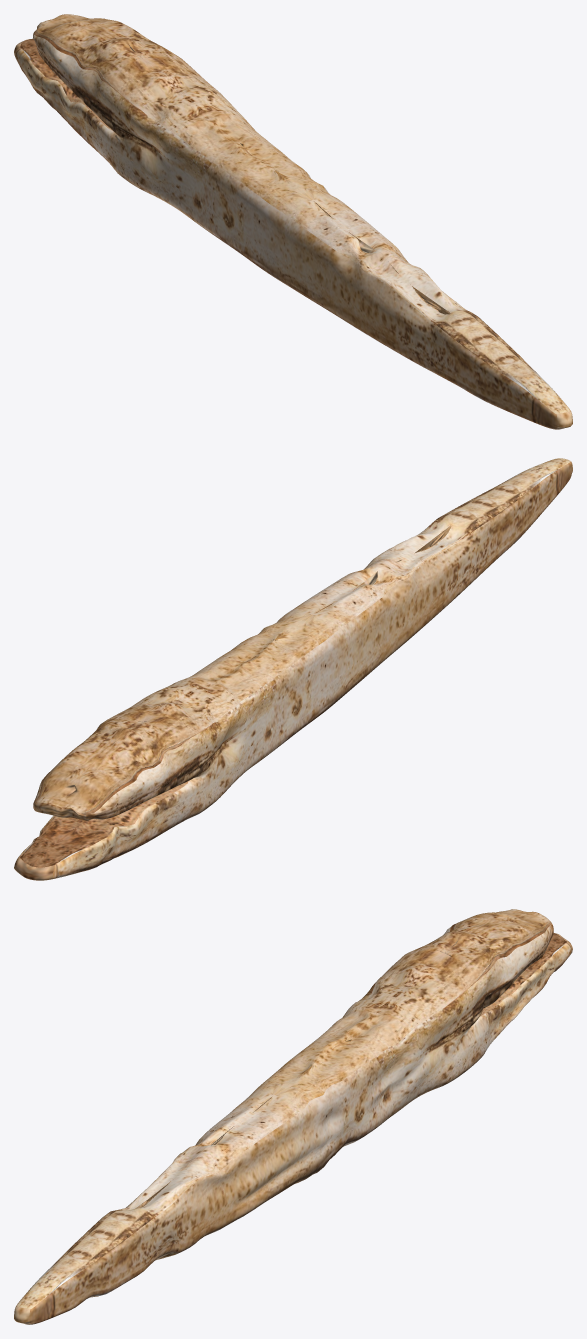
File: prova.gltf
3 renders of one model, top to bottom at view 1: azimuth 30°, elevation 25°; view 2: azimuth 150°, elevation 25°; view 3: azimuth 330°, elevation 25°, orthographic.
Visible parts, largest first — view 1: legno; view 2: legno; view 3: legno.
Boxes of the visible parts, x1,y1,x2,y2 form: legno: (14, 14, 572, 429); legno: (14, 458, 572, 880); legno: (14, 909, 572, 1324).
Bounding box in the file's own units: 0.6795 × 0.8029 × 7.18.
Materials: 1 (1 with a texture image).
